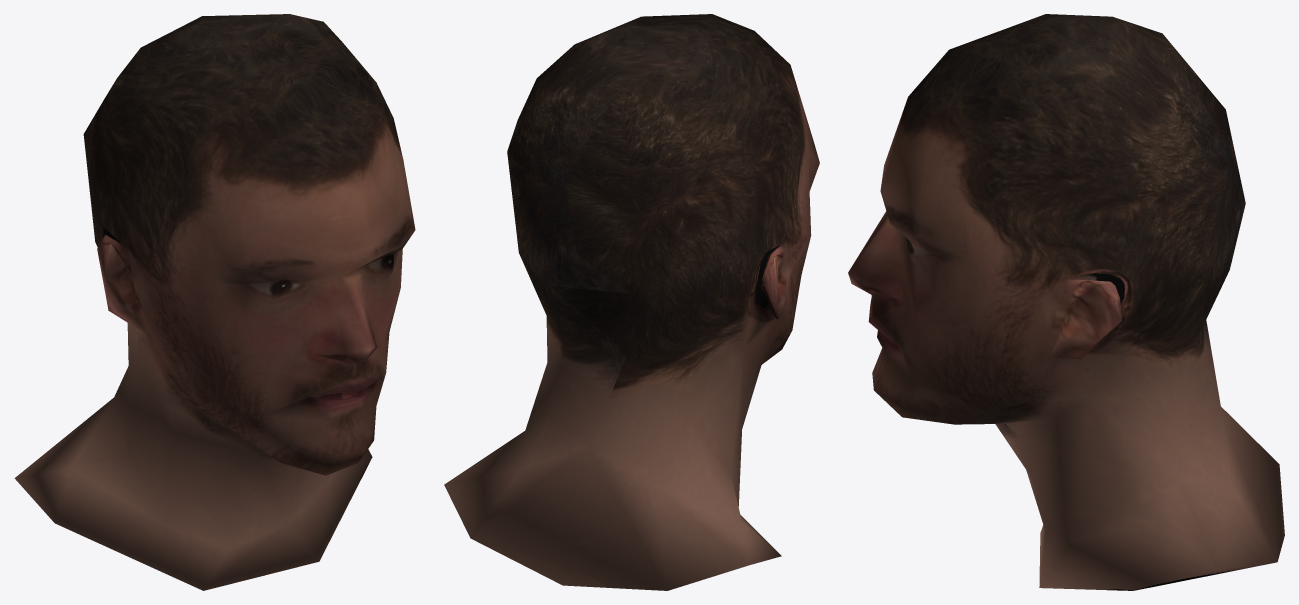
Rendered from kopflowpoly.glb.
3 views of the same model, side by side, from view 1: azimuth 30°, elevation 25°; view 2: azimuth 150°, elevation 25°; view 3: azimuth 270°, elevation 25° (orthographic). The views are drawn at different scales.
Parts seen in each view (by area): view 1: FBHead; view 2: FBHead; view 3: FBHead.
Boxes of the visible parts, x1,y1,x2,y2 form: FBHead: (14,14,415,590); FBHead: (444,14,819,590); FBHead: (848,14,1284,590).
Size of the model in its own units: 1.59 by 2.52 by 1.86.
Materials: 1 (1 with a texture image).
